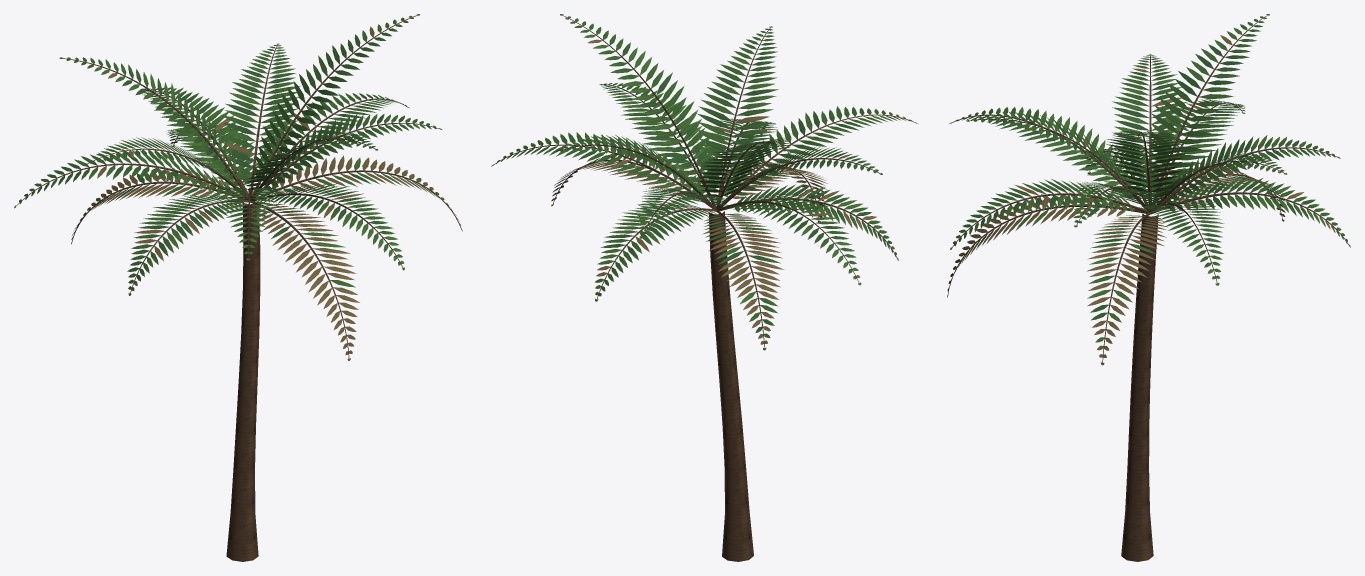
Rendered from tree_fern.glb.
3 renders of one model, left to right at view 1: azimuth 30°, elevation 25°; view 2: azimuth 150°, elevation 25°; view 3: azimuth 270°, elevation 25°, orthographic.
Visible parts, largest first — view 1: tree_fern; view 2: tree_fern; view 3: tree_fern.
Part boxes in pixels (bbox=[...]): tree_fern: bbox=[14, 14, 462, 561]; tree_fern: bbox=[491, 14, 917, 561]; tree_fern: bbox=[947, 14, 1350, 561].
Bounding box in the file's own units: 4.05 × 5.04 × 3.67.
2 materials, 2 textured.
